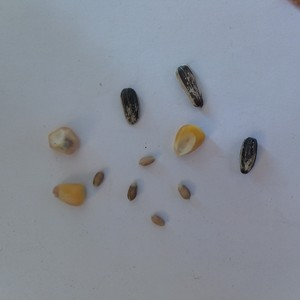girasol: (175, 64, 212, 110), (235, 135, 263, 176), (118, 85, 145, 127)
maiz: (171, 120, 208, 164), (44, 122, 82, 156), (47, 180, 88, 209)
trigo: (175, 182, 194, 204), (123, 179, 140, 203), (136, 153, 157, 171), (147, 212, 167, 229), (91, 167, 105, 190)
